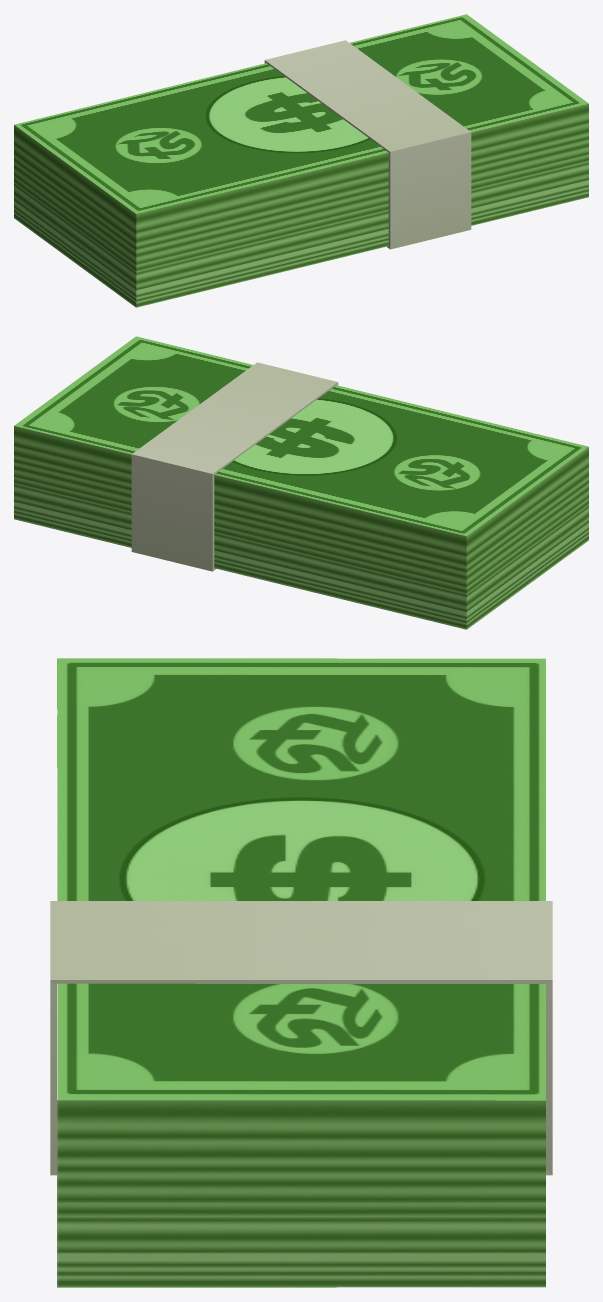
File: money.fbx
3 views of the same model, one above another, from view 1: azimuth 30°, elevation 25°; view 2: azimuth 150°, elevation 25°; view 3: azimuth 270°, elevation 25° (orthographic). The views are drawn at different scales.
Parts seen in each view (by area): view 1: Dolar_001; view 2: Dolar_001; view 3: Dolar_001.
Part boxes in pixels (bbox=[...]): Dolar_001: bbox=[14, 14, 588, 307]; Dolar_001: bbox=[14, 336, 588, 629]; Dolar_001: bbox=[50, 658, 552, 1287].
Bounding box in the file's own units: 15.4 × 3.17 × 7.4.
2 materials, 2 textured.
